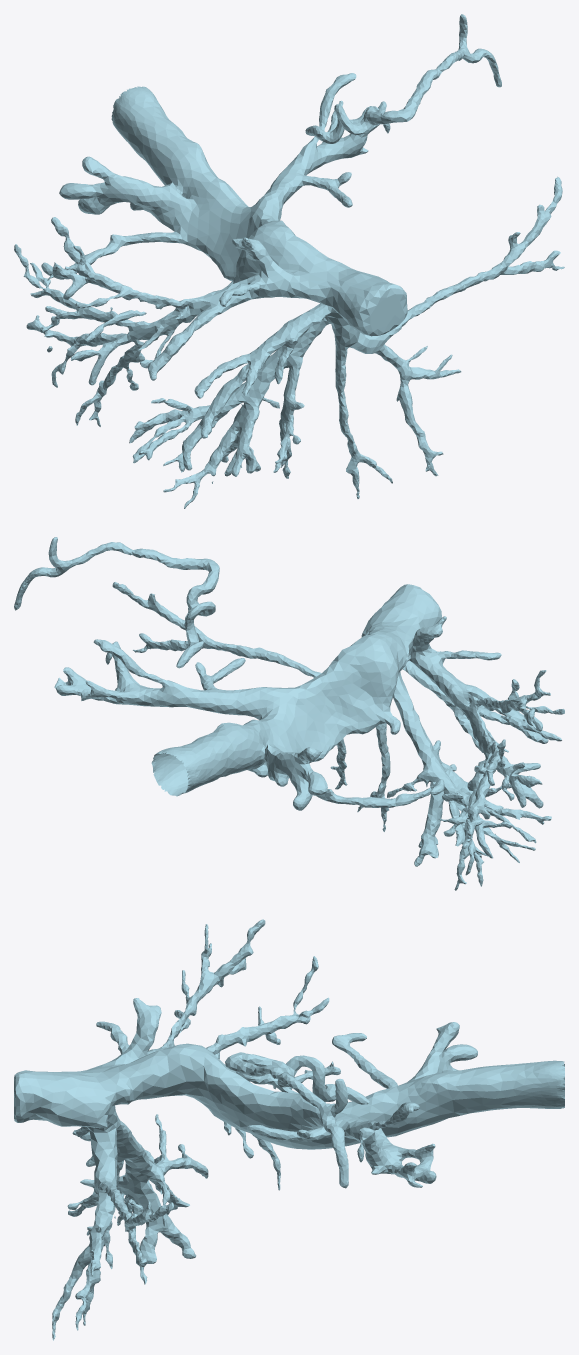
The model's file is venoussystem.obj.
3 views of the same model, one above another, from view 1: azimuth 30°, elevation 25°; view 2: azimuth 150°, elevation 25°; view 3: azimuth 270°, elevation 25° (orthographic). The views are drawn at different scales.
Visible parts, largest first — view 1: grp1; view 2: grp1; view 3: grp1.
Boxes of the visible parts, <box> form: grp1: <box>14,14,564,508</box>; grp1: <box>14,537,564,890</box>; grp1: <box>14,919,564,1340</box>.
Bounding box in the file's own units: 258 × 168 × 231.
